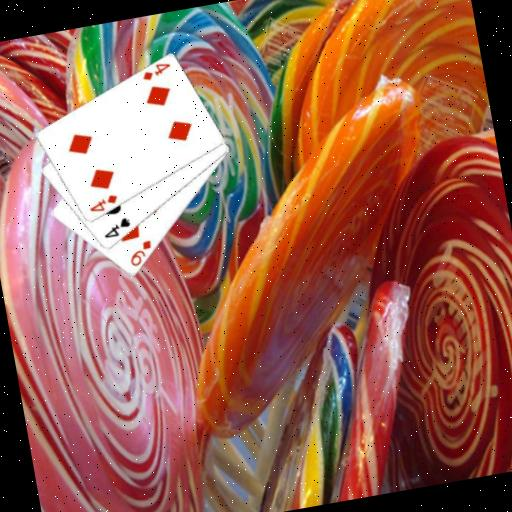4D: (84, 190, 120, 215), (138, 58, 174, 83)
4S: (98, 214, 133, 241)
9D: (124, 236, 156, 268)
